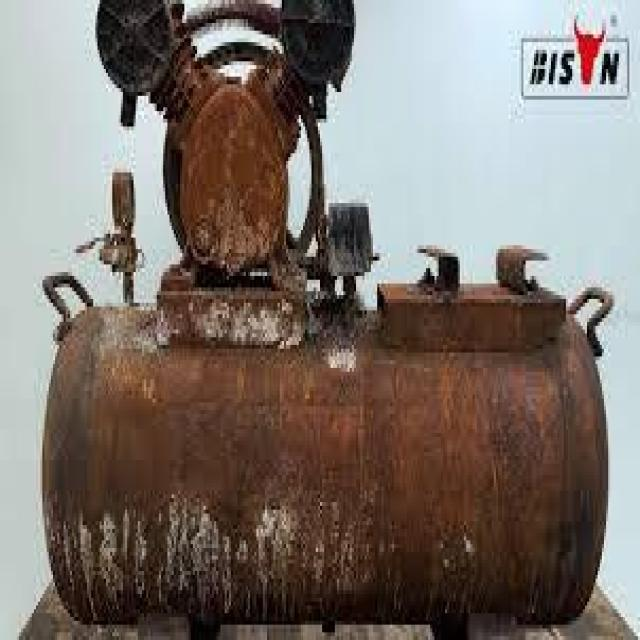compressor: (36, 0, 614, 632)
corrosion detected: (57, 315, 604, 590), (96, 161, 146, 299), (494, 238, 551, 299)
